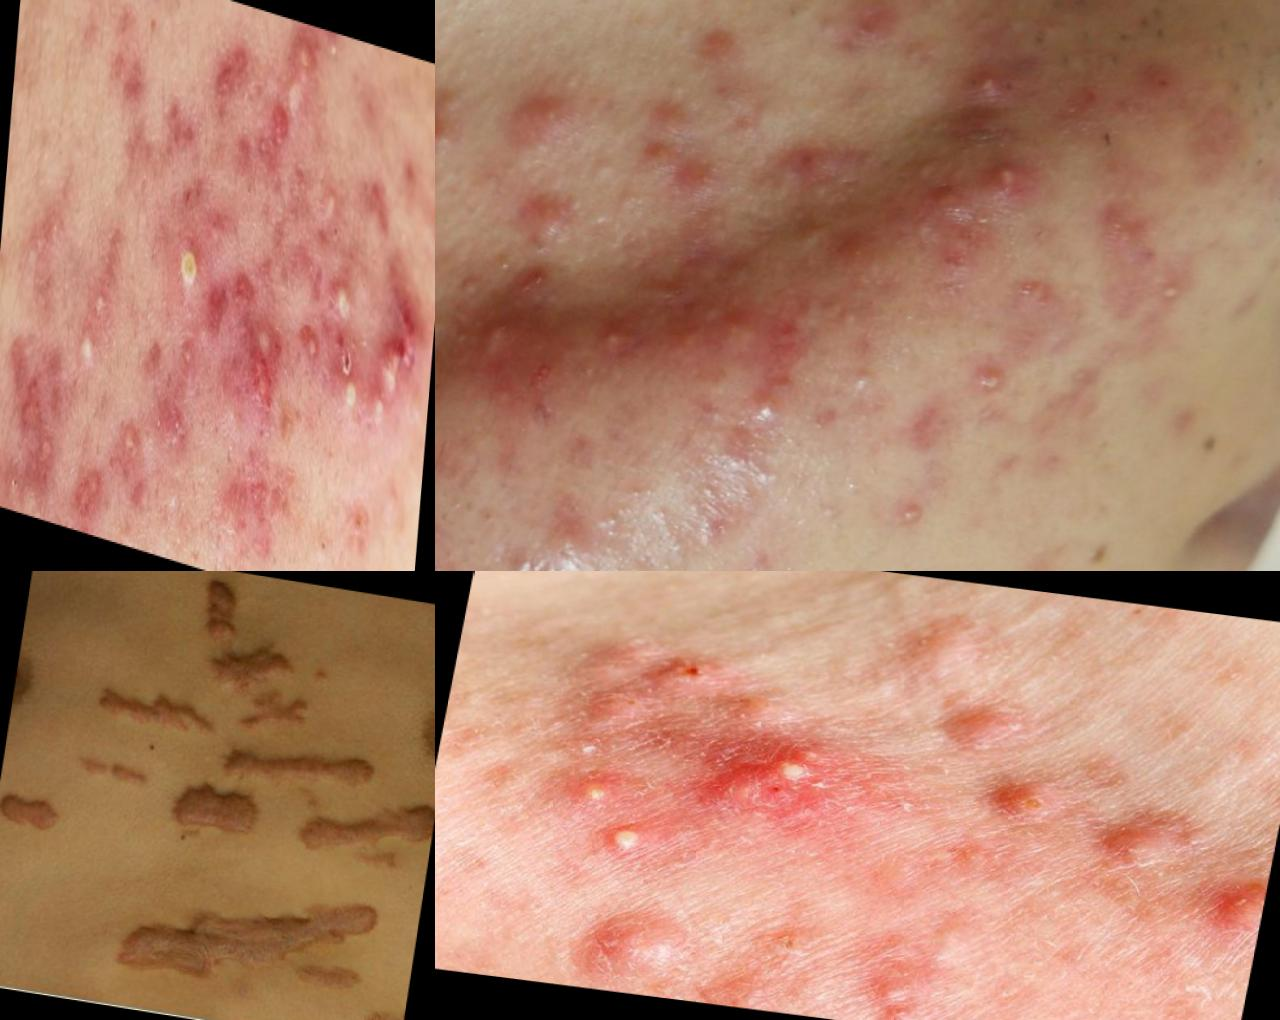acne_scars: (3, 354, 56, 448), (250, 96, 292, 185), (200, 264, 238, 346), (159, 90, 201, 156), (71, 447, 102, 527), (302, 241, 331, 318), (248, 467, 272, 527)
cystic: (561, 904, 709, 996), (1095, 806, 1198, 886), (942, 698, 1048, 774), (1201, 867, 1271, 955)
keloid: (108, 858, 390, 1014), (285, 786, 436, 879), (213, 729, 381, 813), (83, 678, 227, 748), (194, 631, 310, 707), (162, 774, 271, 844), (230, 680, 321, 746), (69, 747, 158, 797), (195, 572, 249, 652), (1, 786, 70, 839)
papular: (639, 313, 708, 385), (710, 297, 771, 363)
purulent: (565, 296, 639, 369), (978, 144, 1044, 221), (949, 47, 1013, 125), (731, 369, 802, 434), (956, 348, 1020, 419), (880, 471, 939, 549), (1145, 260, 1194, 345), (167, 224, 209, 311), (829, 348, 892, 407), (597, 819, 656, 861), (329, 262, 357, 340), (339, 360, 367, 435), (572, 773, 625, 812), (74, 321, 102, 375), (85, 279, 114, 330)
sebo-crystan-conglo: (444, 258, 590, 447), (683, 734, 861, 843), (492, 57, 601, 173), (368, 283, 424, 439), (247, 288, 291, 410), (281, 26, 328, 133)
